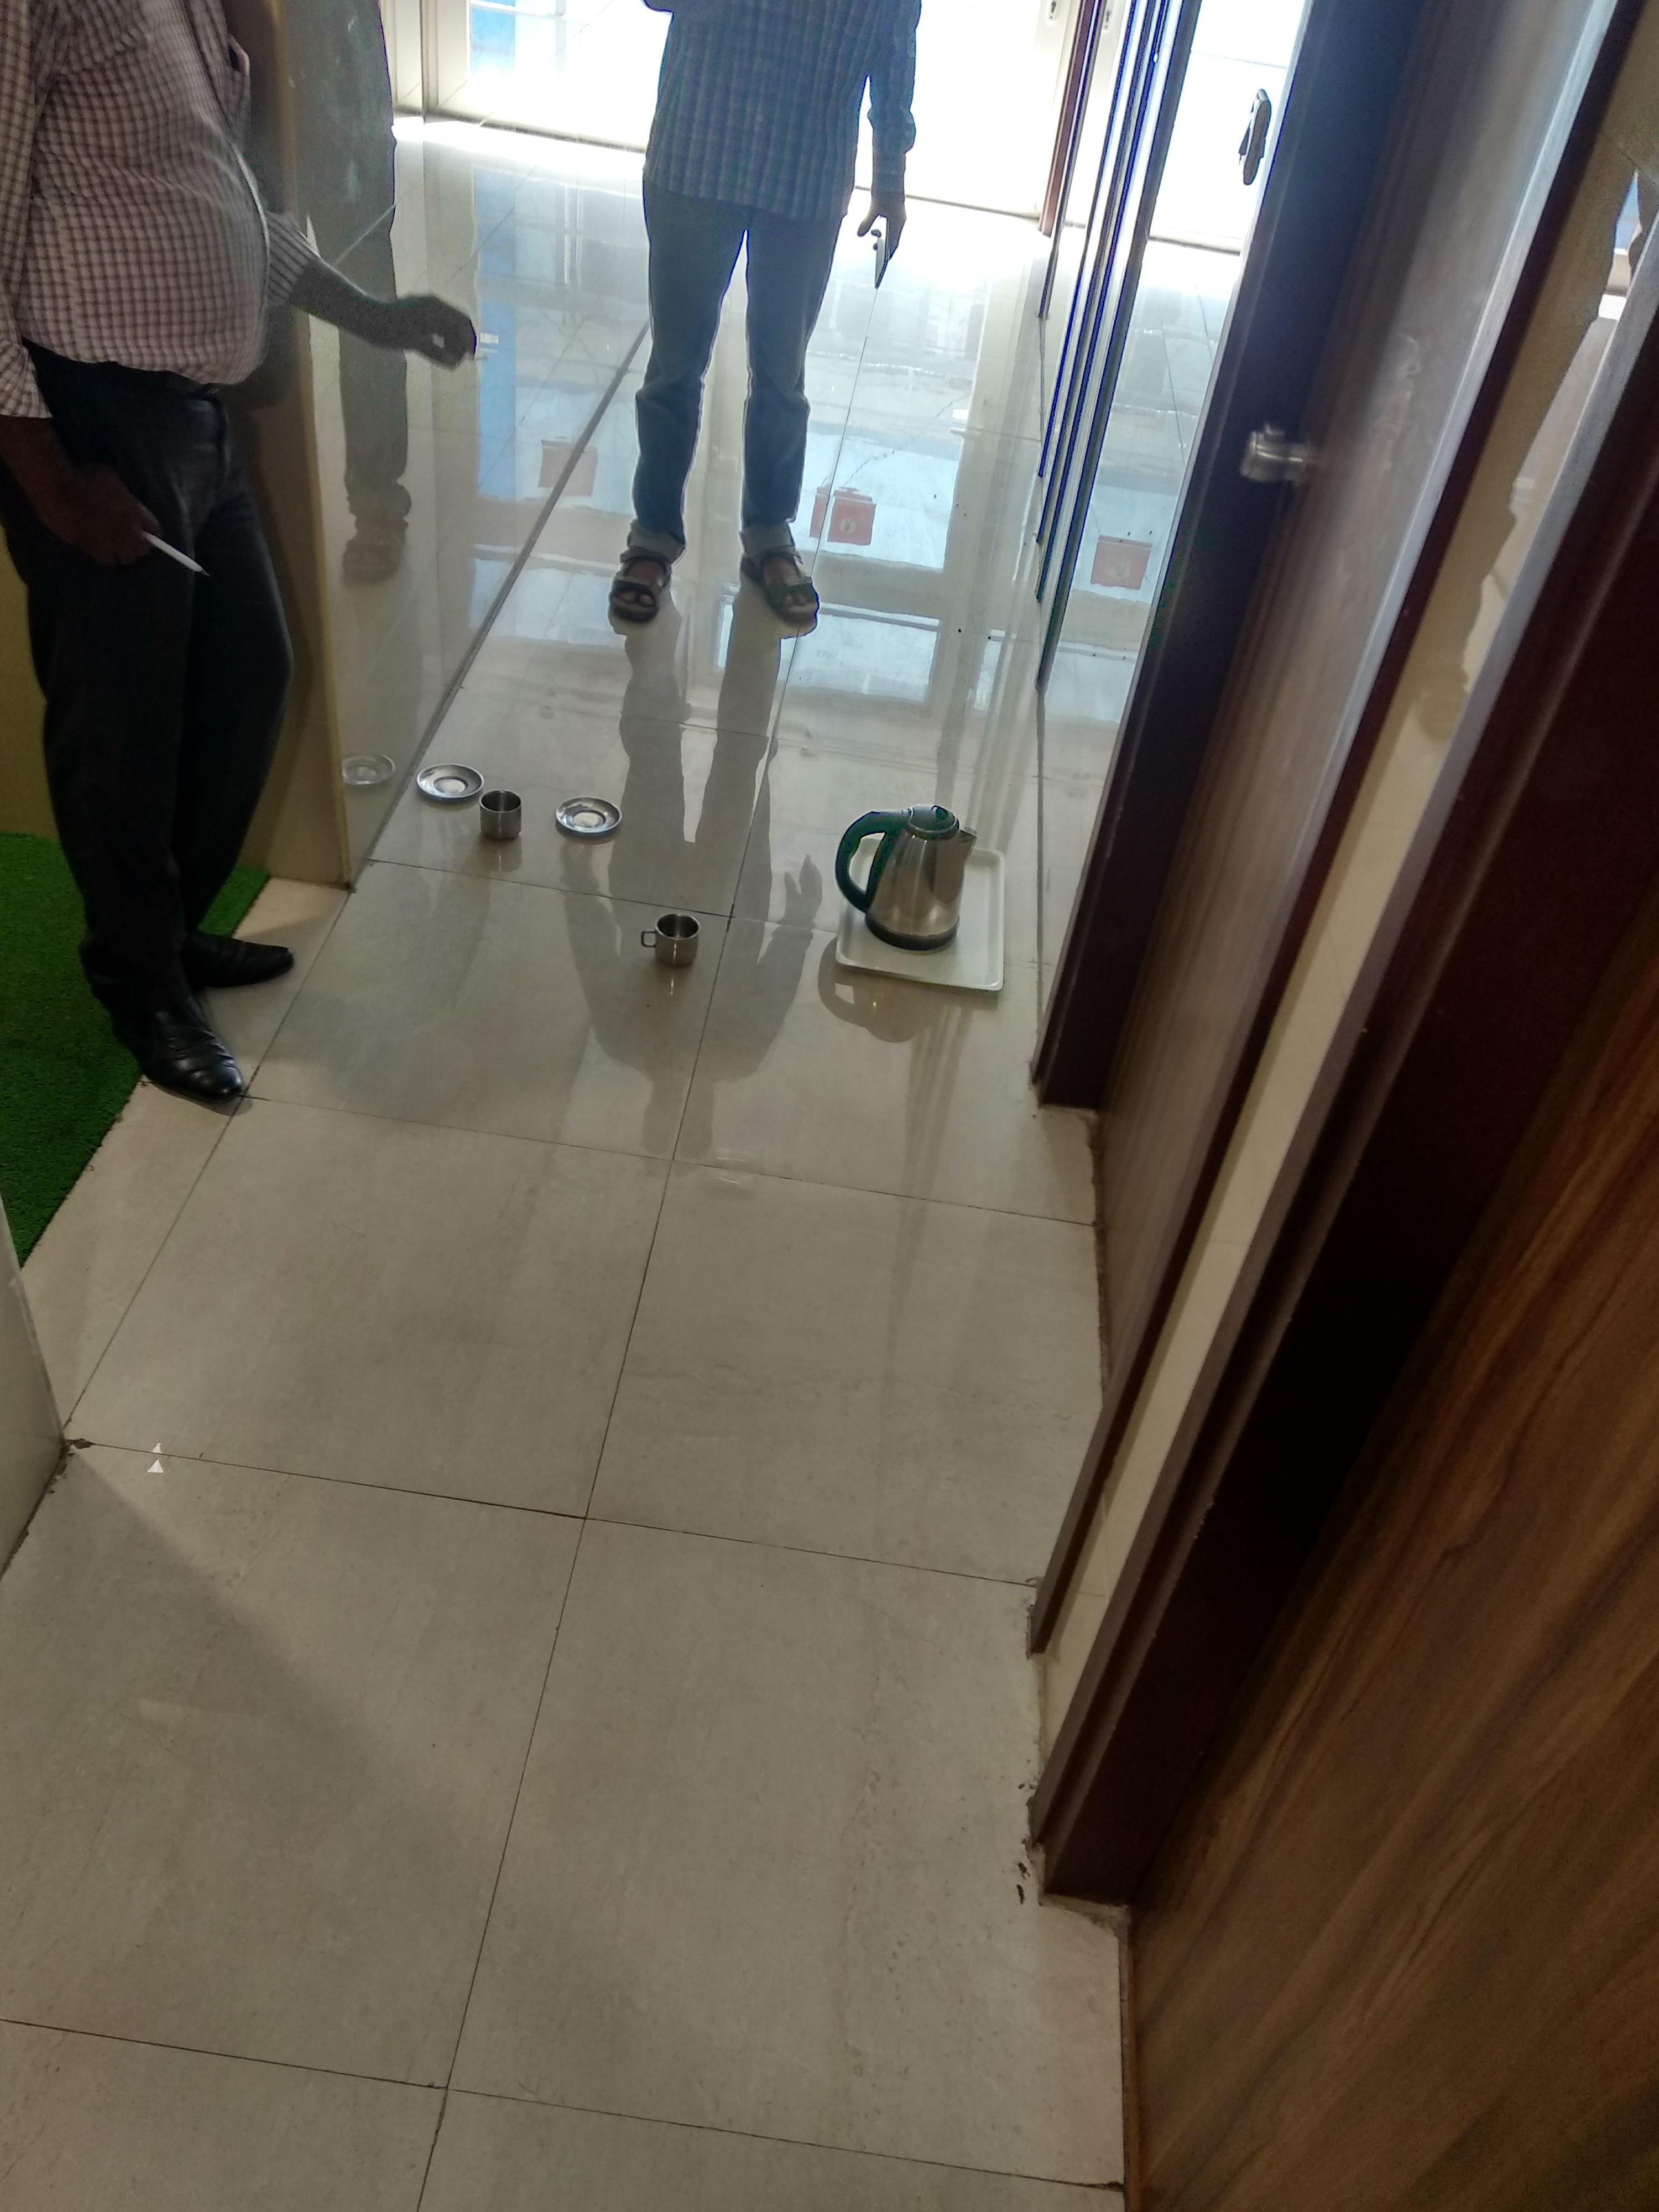CUP: (643, 914, 697, 970), (477, 792, 523, 841)
FLASK: (857, 820, 985, 946)
